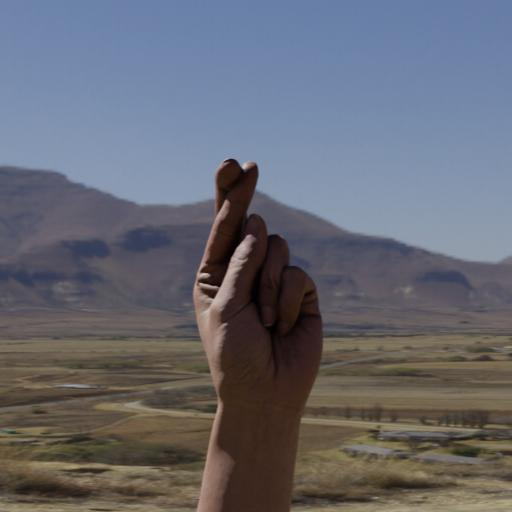R: (178, 136, 336, 412)
